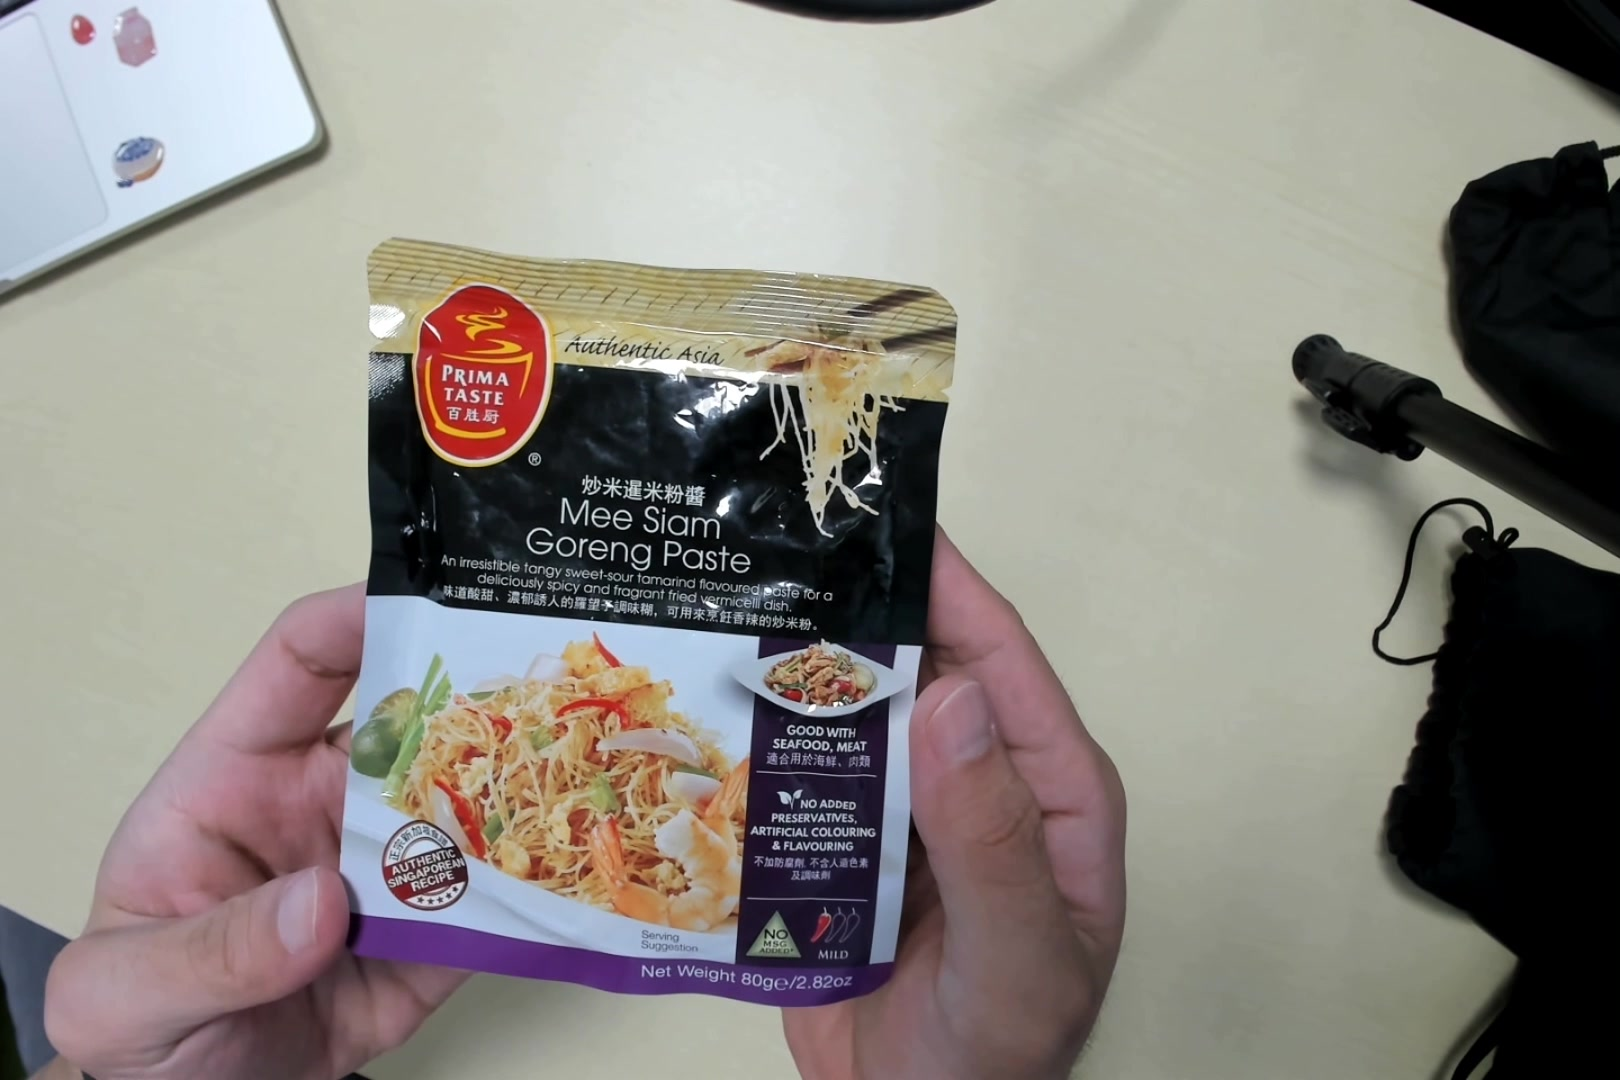CurryPastePowderSauce_0-99g_NonHalal_NonHealthy: (350, 262, 898, 999)
